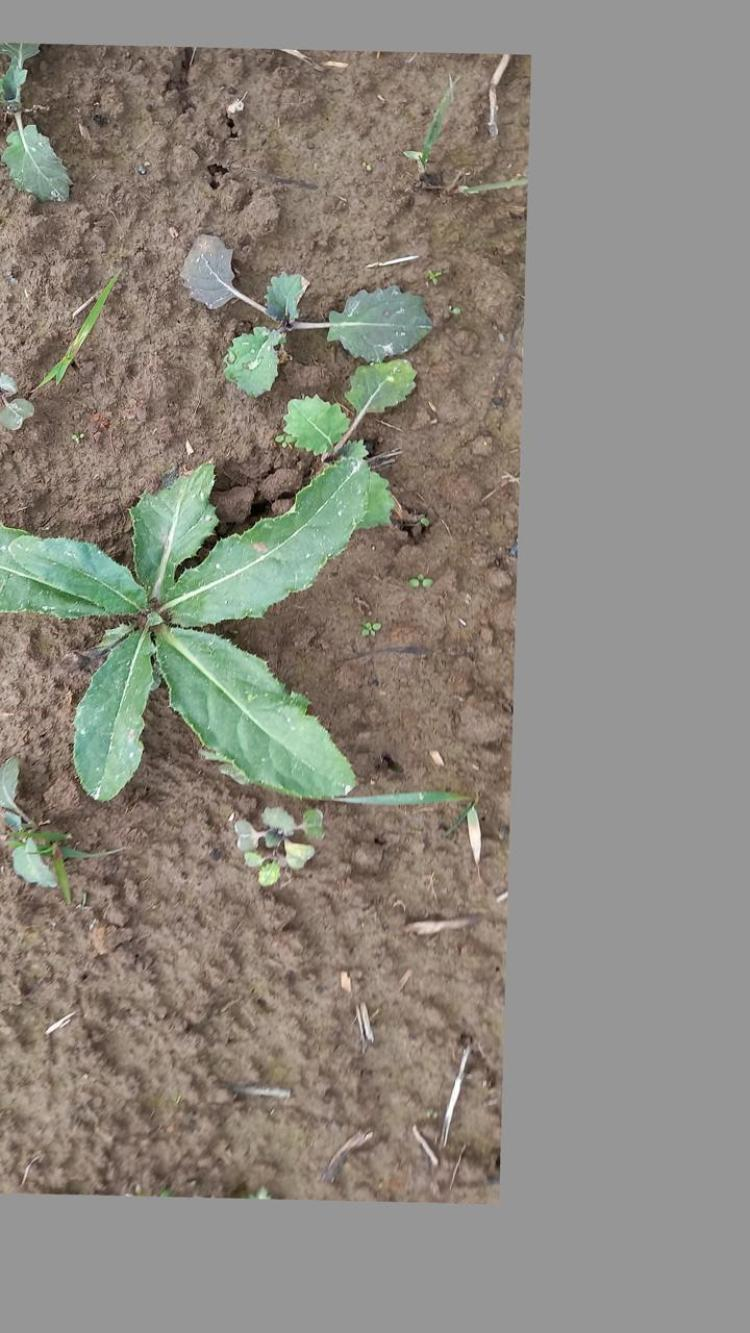bodyak: (8, 456, 390, 825)
